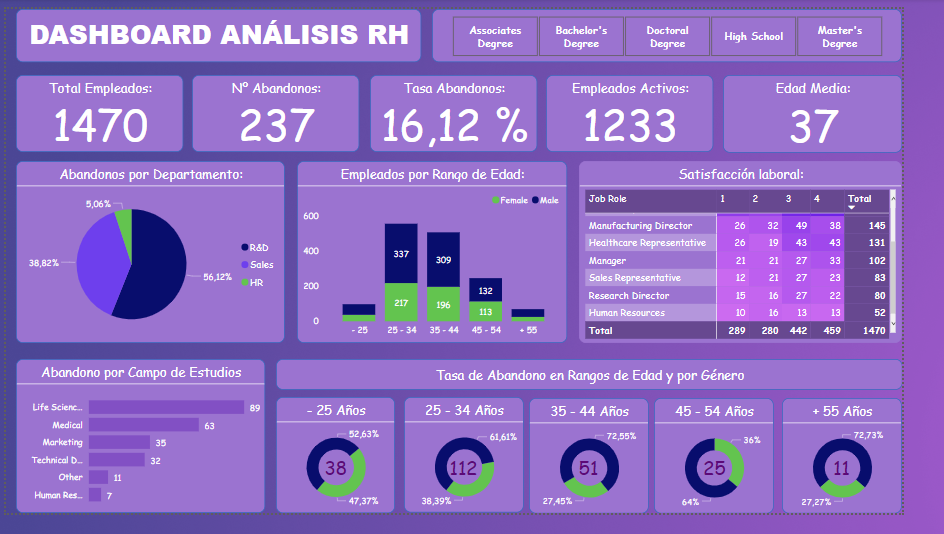

The dashboard page shown, as its layout file describes it:
{"tool":"powerbi","page":{"name":"Dashboard RH","canvas":[1280,720],"ordinal":0},"visuals":[{"type":"card","title":"Total Empleados:","fields":{"Values":["Sum(HR data.Employee Count)"]},"box":[13.8,95,239.5,110.1],"z":0},{"type":"card","title":"Nº Abandonos:","fields":{"Values":["Sum(HR data.Recuento abandono)"]},"box":[265.6,95,239.5,110.1],"z":1000},{"type":"card","title":"Tasa Abandonos:","fields":{"Values":["HR data.Tasa abandono"]},"box":[520.3,95,239.5,110.1],"z":2000},{"type":"card","title":"Empleados Activos:","fields":{"Values":["HR data.Empleados activos"]},"box":[772.1,95,239.5,110.1],"z":3000},{"type":"card","title":"Edad Media:","fields":{"Values":["Avg(HR data.Age)"]},"box":[1024.3,94.3,255.7,111.4],"z":4000},{"type":"pieChart","title":"Abandonos por Departamento:","fields":{"Category":["HR data.Department"],"Y":["Sum(HR data.Recuento abandono)"]},"box":[14.3,217.1,384.3,260],"z":5000},{"type":"columnChart","title":"Empleados por Rango de Edad:","fields":{"Category":["HR data.CF_age band"],"Y":["Sum(HR data.Employee Count)"],"Series":["HR data.Gender"]},"box":[415.7,217.1,385.7,260],"z":6000},{"type":"pivotTable","title":"Satisfacción laboral:","fields":{"Rows":["HR data.Job Role"],"Columns":["HR data.Job Satisfaction"],"Values":["Sum(HR data.Employee Count)"]},"box":[818.6,217.1,461.4,260],"z":7000},{"type":"clusteredBarChart","title":"Abandono por Campo de Estudios","fields":{"Category":["HR data.Education Field"],"Y":["Sum(HR data.Recuento abandono)"]},"box":[14.3,500,355.7,220],"z":8000},{"type":"donutChart","title":"- 25 Años","fields":{"Category":["HR data.Gender"],"Y":["Sum(HR data.Recuento abandono)"],"Series":["HR data.CF_age band"]},"box":[385.7,554.3,170,165.7],"z":9000},{"type":"textbox","box":[385,500,895,44],"z":10000},{"type":"donutChart","title":"25 - 34 Años","fields":{"Category":["HR data.Gender"],"Y":["Sum(HR data.Recuento abandono)"],"Series":["HR data.CF_age band"]},"box":[568.4,554.7,170.7,165.2],"z":11000},{"type":"donutChart","title":"35 - 44 Años","fields":{"Category":["HR data.Gender"],"Y":["Sum(HR data.Recuento abandono)"],"Series":["HR data.CF_age band"]},"box":[747,555,171,165],"z":12000},{"type":"donutChart","title":"+ 55 Años","fields":{"Category":["HR data.Gender"],"Y":["Sum(HR data.Recuento abandono)"],"Series":["HR data.CF_age band"]},"box":[1109,555,171,165],"z":13000},{"type":"donutChart","title":"45 - 54 Años","fields":{"Category":["HR data.Gender"],"Y":["Sum(HR data.Recuento abandono)"],"Series":["HR data.CF_age band"]},"box":[925,555,171,165],"z":14000},{"type":"card","fields":{"Values":["Sum(HR data.Recuento abandono)"]},"box":[444.4,636.7,53.3,38.9],"z":16000},{"type":"card","fields":{"Values":["Sum(HR data.Recuento abandono)"]},"box":[622.2,636.7,61.1,38.9],"z":16500},{"type":"card","fields":{"Values":["Sum(HR data.Recuento abandono)"]},"box":[801.1,636.7,61.1,38.9],"z":16501},{"type":"card","fields":{"Values":["Sum(HR data.Recuento abandono)"]},"box":[981.1,637.8,61.1,38.9],"z":16502},{"type":"card","fields":{"Values":["Sum(HR data.Recuento abandono)"]},"box":[1163.3,637.8,61.1,38.9],"z":16503},{"type":"textbox","box":[14.3,0,578.6,75.7],"z":16504},{"type":"slicer","fields":{"Values":["HR data.Education"]},"box":[608.6,0,671.4,75.7],"z":16505}]}

Visuals, with their boxes in screenshot pixels (x1, y1, x2, y2), scaled from the page's 1280x720 canvas onto the 944x534 screenshot:
"Total Empleados:" card: 10 70 187 152
"Nº Abandonos:" card: 196 70 373 152
"Tasa Abandonos:" card: 384 70 560 152
"Empleados Activos:" card: 569 70 746 152
"Edad Media:" card: 755 70 943 153
"Abandonos por Departamento:" pieChart: 11 161 294 354
"Empleados por Rango de Edad:" columnChart: 307 161 591 354
"Satisfacción laboral:" pivotTable: 604 161 943 354
"Abandono por Campo de Estudios" clusteredBarChart: 11 371 273 533
"- 25 Años" donutChart: 284 411 410 533
textbox: 284 371 943 403
"25 - 34 Años" donutChart: 419 411 545 533
"35 - 44 Años" donutChart: 551 412 677 533
"+ 55 Años" donutChart: 818 412 943 533
"45 - 54 Años" donutChart: 682 412 808 533
card - Sum(HR data.Recuento abandono): 328 472 367 501
card - Sum(HR data.Recuento abandono): 459 472 504 501
card - Sum(HR data.Recuento abandono): 591 472 636 501
card - Sum(HR data.Recuento abandono): 724 473 769 502
card - Sum(HR data.Recuento abandono): 858 473 903 502
textbox: 11 0 437 56
slicer - HR data.Education: 449 0 943 56
